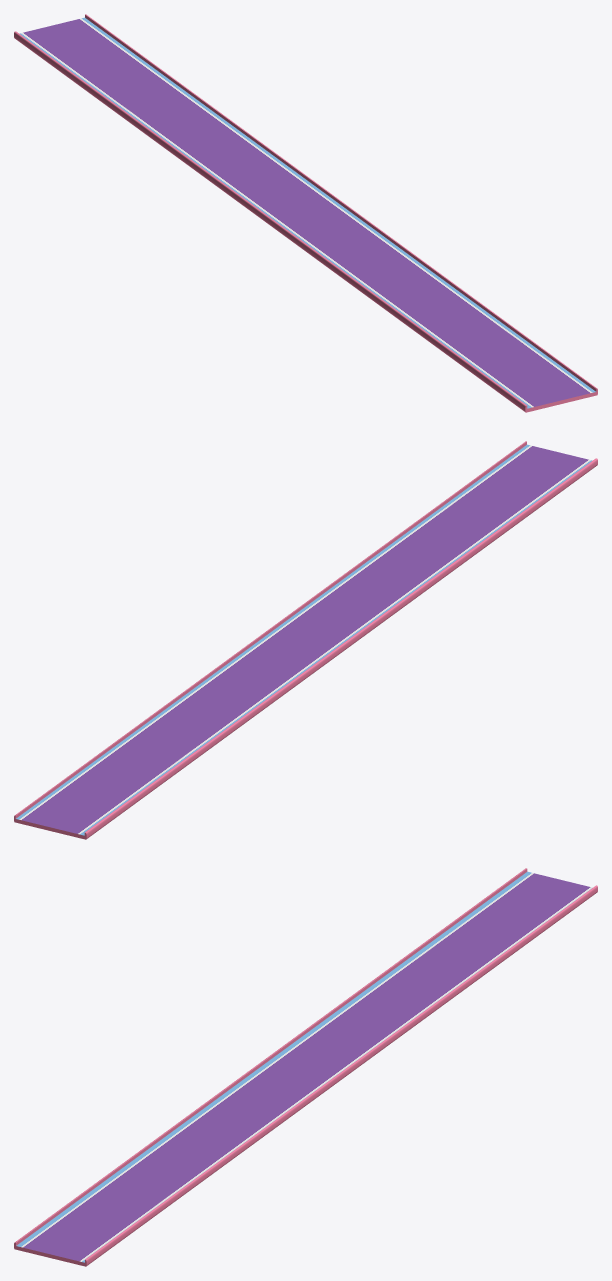
Rendered from Road50M.fbx.
3 renders of one model, top to bottom at view 1: azimuth 30°, elevation 25°; view 2: azimuth 150°, elevation 25°; view 3: azimuth 330°, elevation 25°, orthographic.
Parts seen in each view (by area): view 1: Road, Road50M_Side; view 2: Road, Road50M_Side; view 3: Road, Road50M_Side.
Boxes of the visible parts, x1,y1,x2,y2 form: Road: (19,17,596,412); Road50M_Side: (14,14,597,412); Road: (15,444,592,839); Road50M_Side: (14,441,597,839); Road: (16,871,592,1266); Road50M_Side: (14,868,597,1266).
Size of the model in its own units: 410 by 36.51 by 5000.
